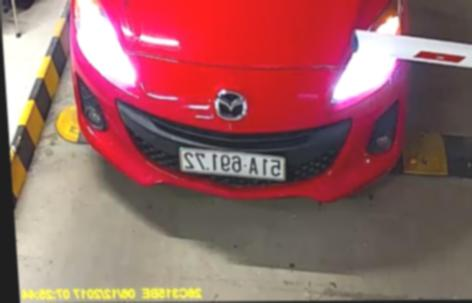License_Plate: (171, 144, 290, 181)
